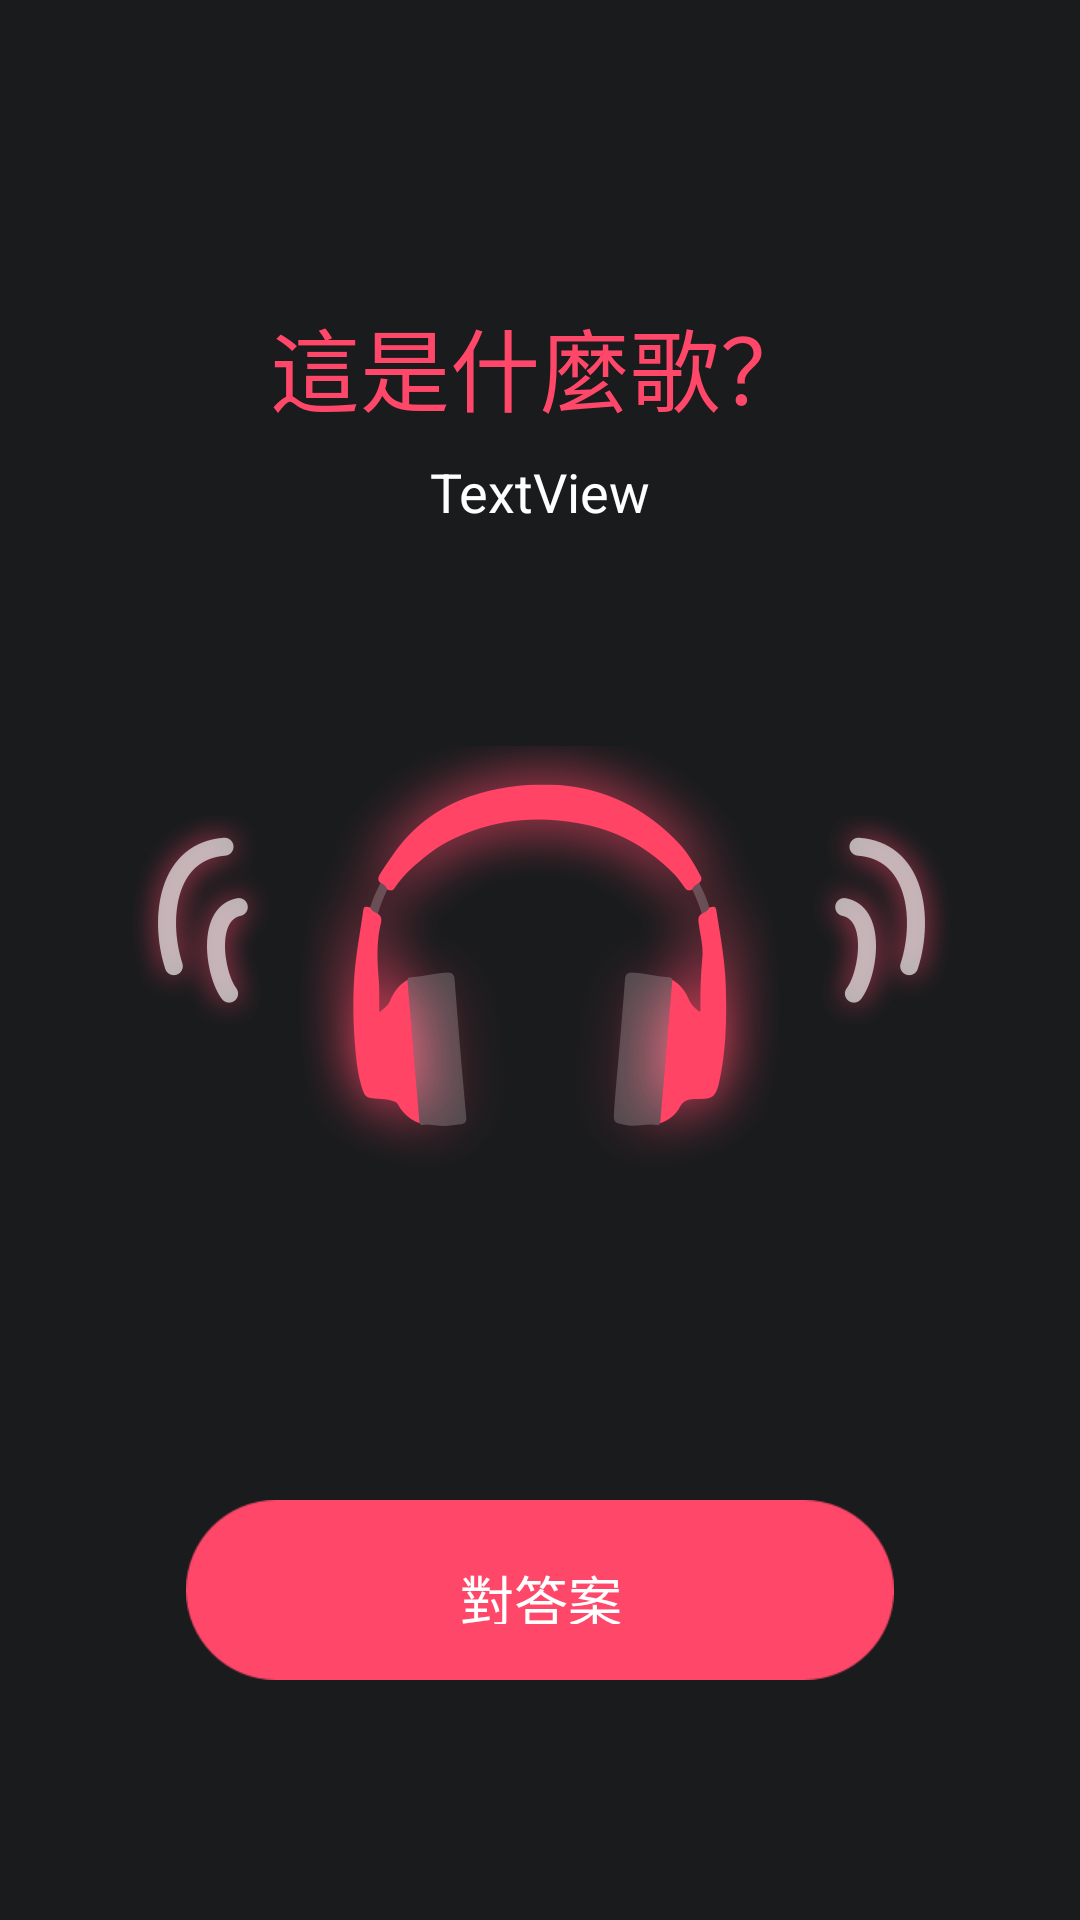

Locate icon controls on the screen. Image size 1080px×1920px, boxes as (x1, y1, x2, y2).
ripple left: (144, 827, 253, 1008)
ripple right: (830, 827, 939, 1008)
